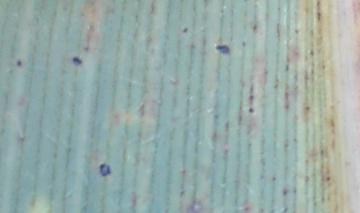tarspot: (96, 160, 112, 180), (212, 42, 231, 55), (247, 80, 255, 105), (134, 102, 146, 118), (314, 1, 321, 25), (70, 56, 83, 66), (14, 58, 23, 68), (246, 106, 255, 116), (280, 187, 288, 198), (181, 26, 189, 36), (251, 22, 257, 34), (302, 103, 310, 111), (324, 175, 332, 183), (308, 47, 314, 57), (293, 27, 299, 36), (240, 40, 246, 47), (320, 63, 326, 70)
